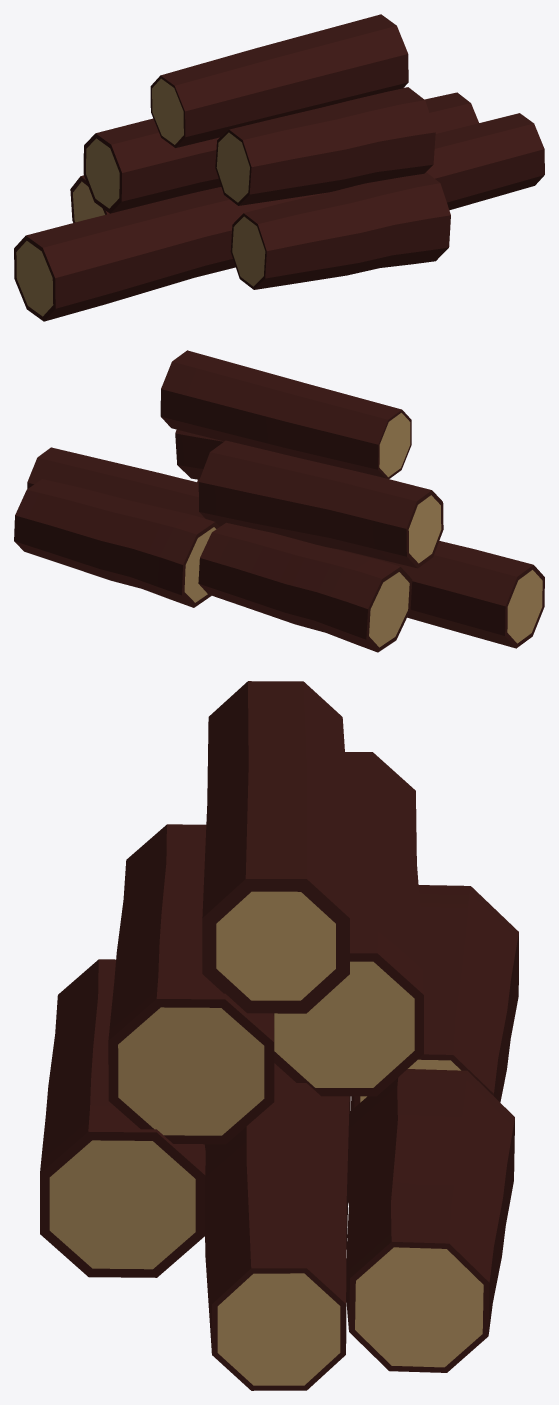
Rendered from SM_CampfireLogs_001.fbx.
The picture shows the model from 3 angles, top to bottom: view 1: azimuth 30°, elevation 25°; view 2: azimuth 150°, elevation 25°; view 3: azimuth 270°, elevation 25°; orthographic projection. The views are drawn at different scales.
Parts seen in each view (by area): view 1: CampfireLogs; view 2: CampfireLogs; view 3: CampfireLogs.
Part boxes in pixels (x1,y1,x2,y2): CampfireLogs: [14, 14, 544, 321]; CampfireLogs: [14, 350, 544, 652]; CampfireLogs: [40, 681, 518, 1390].
Bounding box in the file's own units: 54.2 × 21.85 × 23.37.
